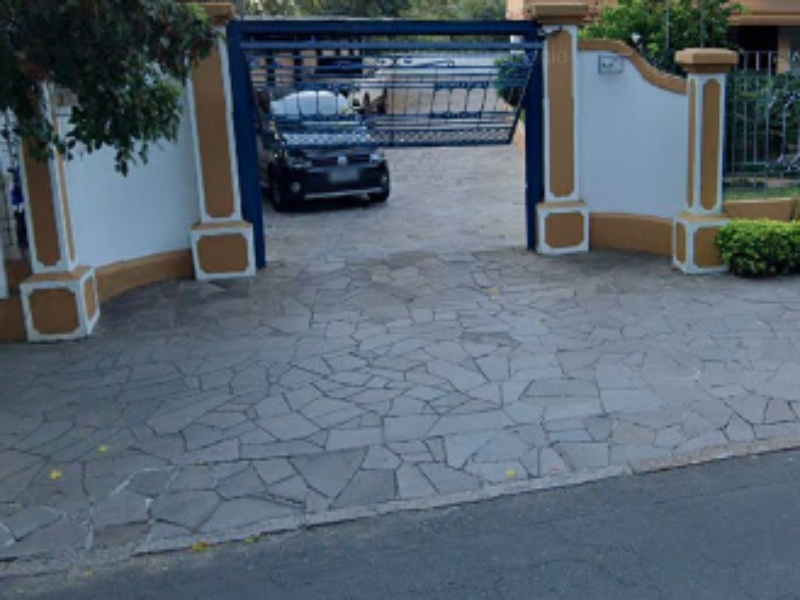g94: (96, 396, 793, 576)
